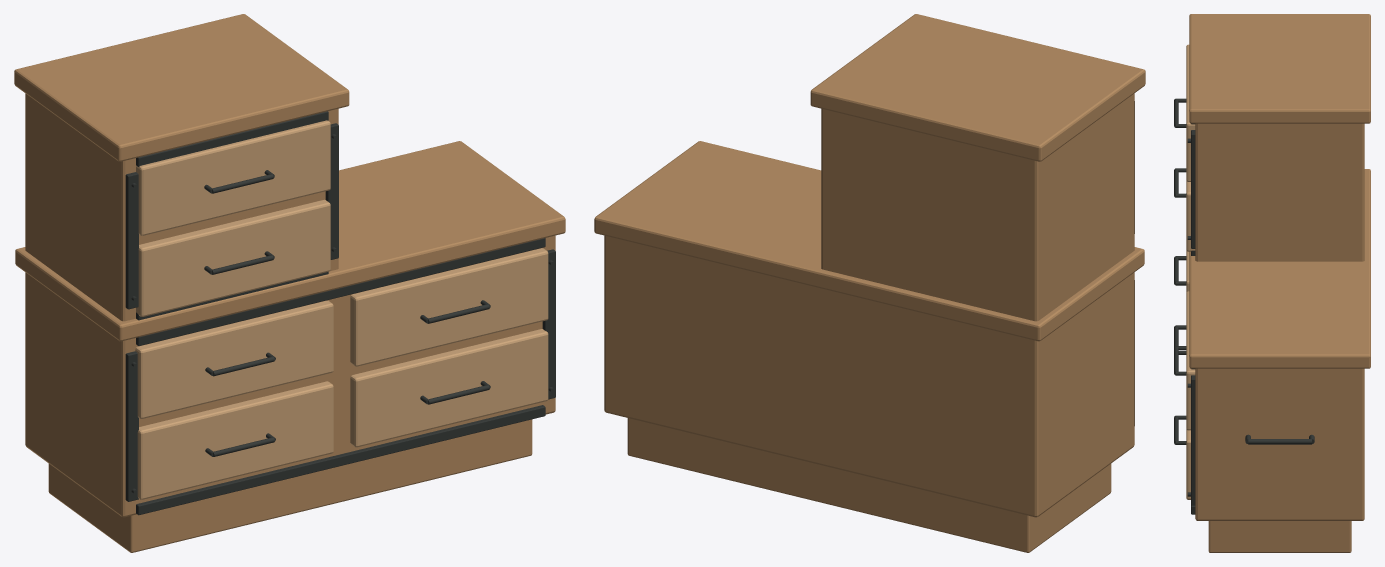
File: dresser_japanese_tansu.glb
3 views of the same model, side by side, from view 1: azimuth 30°, elevation 25°; view 2: azimuth 150°, elevation 25°; view 3: azimuth 270°, elevation 25° (orthographic). The views are drawn at different scales.
Visible parts, largest first — view 1: Tansu upper left top, Tansu lower overhanging top, Tansu wide lower closed cabinet, Tansu upper left closed cabinet, Tansu grounded dark wood plinth, Tansu lower drawer 2-2 closed drawer face, Tansu lower drawer 1-2 closed drawer face, Tansu lower drawer 2-1 closed drawer face, Tansu lower drawer 1-1 closed drawer face, Tansu upper drawer 1 closed drawer face, Tansu upper drawer 2 closed drawer face, Tansu lower horizontal iron edge strap (+6 smaller); view 2: Tansu wide lower closed cabinet, Tansu upper left closed cabinet, Tansu upper left top, Tansu lower overhanging top, Tansu grounded dark wood plinth; view 3: Tansu wide lower closed cabinet, Tansu upper left closed cabinet, Tansu lower overhanging top, Tansu upper left top, Tansu grounded dark wood plinth, Tansu lower vertical iron corner strap.001, Tansu lower drawer 2-2 closed drawer face, Tansu upper drawer 2 closed drawer face, Tansu upper vertical iron corner strap.001, Tansu side carrying grip, Tansu upper drawer 1 closed drawer face, Tansu lower drawer 1-2 closed drawer face.
Boxes of the visible parts, <box> form: Tansu upper left top: <box>14,14,349,161</box>; Tansu lower overhanging top: <box>15,141,565,341</box>; Tansu wide lower closed cabinet: <box>25,235,555,517</box>; Tansu upper left closed cabinet: <box>25,93,338,321</box>; Tansu grounded dark wood plinth: <box>48,419,532,552</box>; Tansu lower drawer 2-2 closed drawer face: <box>350,248,548,366</box>; Tansu lower drawer 1-2 closed drawer face: <box>350,329,548,447</box>; Tansu lower drawer 2-1 closed drawer face: <box>135,300,333,418</box>; Tansu lower drawer 1-1 closed drawer face: <box>137,381,333,499</box>; Tansu upper drawer 1 closed drawer face: <box>136,199,330,316</box>; Tansu upper drawer 2 closed drawer face: <box>136,120,330,235</box>; Tansu lower horizontal iron edge strap: <box>136,405,545,515</box>; Tansu wide lower closed cabinet: <box>604,235,1134,517</box>; Tansu upper left closed cabinet: <box>821,93,1134,321</box>; Tansu upper left top: <box>810,14,1145,161</box>; Tansu lower overhanging top: <box>594,141,1144,341</box>; Tansu grounded dark wood plinth: <box>627,418,1111,552</box>; Tansu wide lower closed cabinet: <box>1195,368,1364,520</box>; Tansu upper left closed cabinet: <box>1195,123,1364,261</box>; Tansu lower overhanging top: <box>1189,169,1370,368</box>; Tansu upper left top: <box>1189,14,1370,123</box>; Tansu grounded dark wood plinth: <box>1208,521,1351,552</box>; Tansu lower vertical iron corner strap.001: <box>1191,375,1195,505</box>; Tansu lower drawer 2-2 closed drawer face: <box>1186,291,1195,430</box>; Tansu upper drawer 2 closed drawer face: <box>1186,44,1195,181</box>; Tansu upper vertical iron corner strap.001: <box>1191,130,1195,248</box>; Tansu side carrying grip: <box>1248,439,1311,444</box>; Tansu upper drawer 1 closed drawer face: <box>1186,181,1195,251</box>; Tansu lower drawer 1-2 closed drawer face: <box>1186,429,1190,499</box>.
Size of the model in its own units: 1.28 by 1.13 by 0.558.
